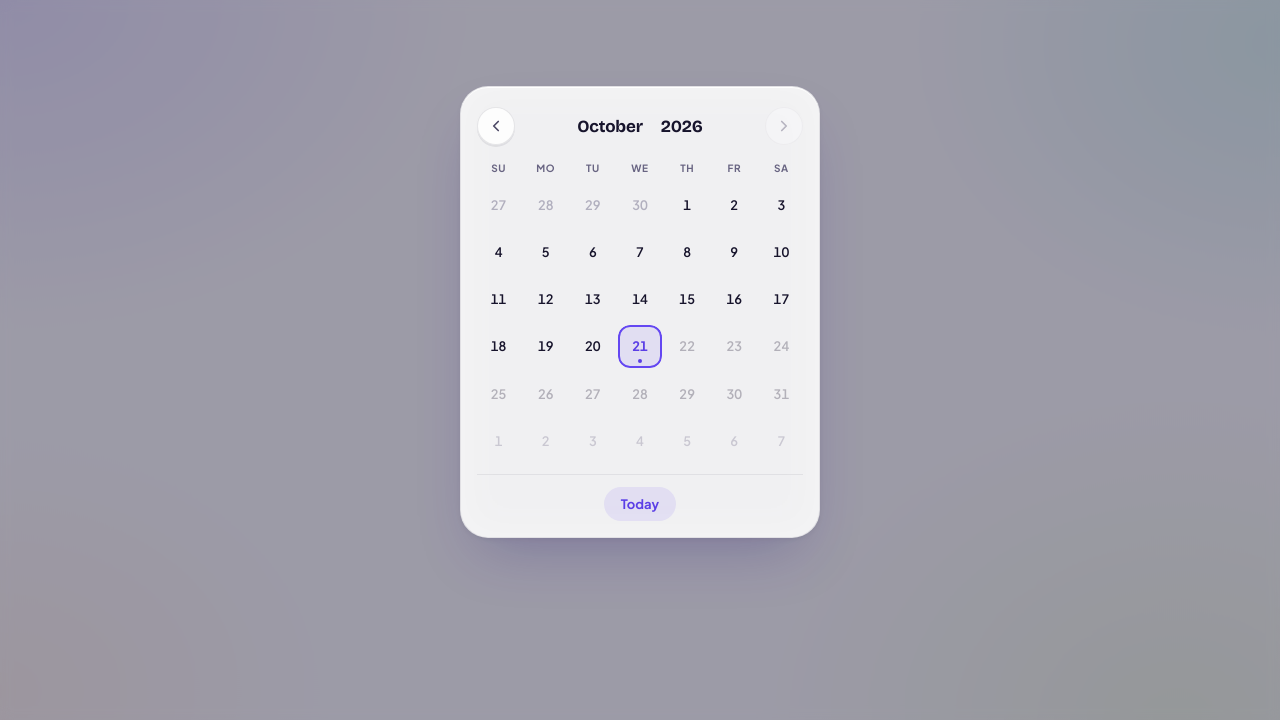
Test: CalendarPicker › pages through months but never past the max month
Expected: the button named "Next month" is disabled, top-left (765, 107), bottom-right (803, 145)
Click the button named "Previous month": (496, 126) top-left (477, 107), bottom-right (515, 145)
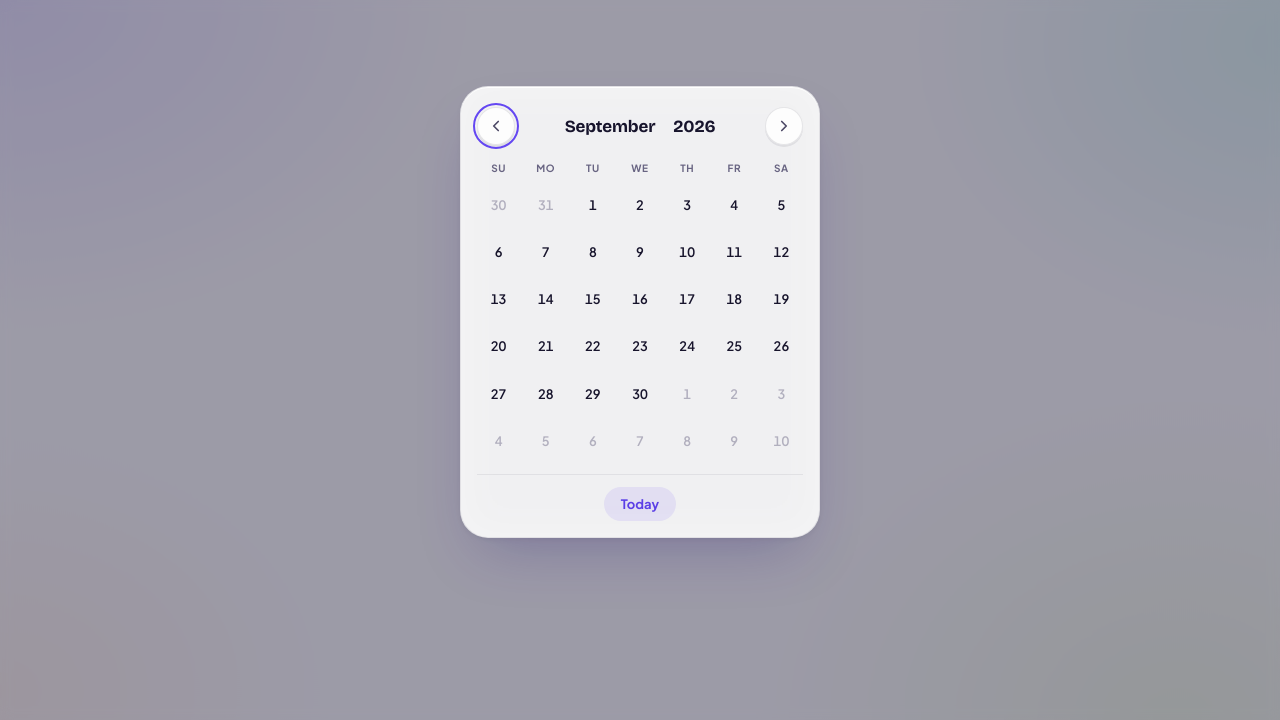
Expected: the button with aria-label "September, choose month" is shown, top-left (557, 112), bottom-right (663, 141)
Click the button named "Next month": (784, 126) top-left (765, 107), bottom-right (803, 145)
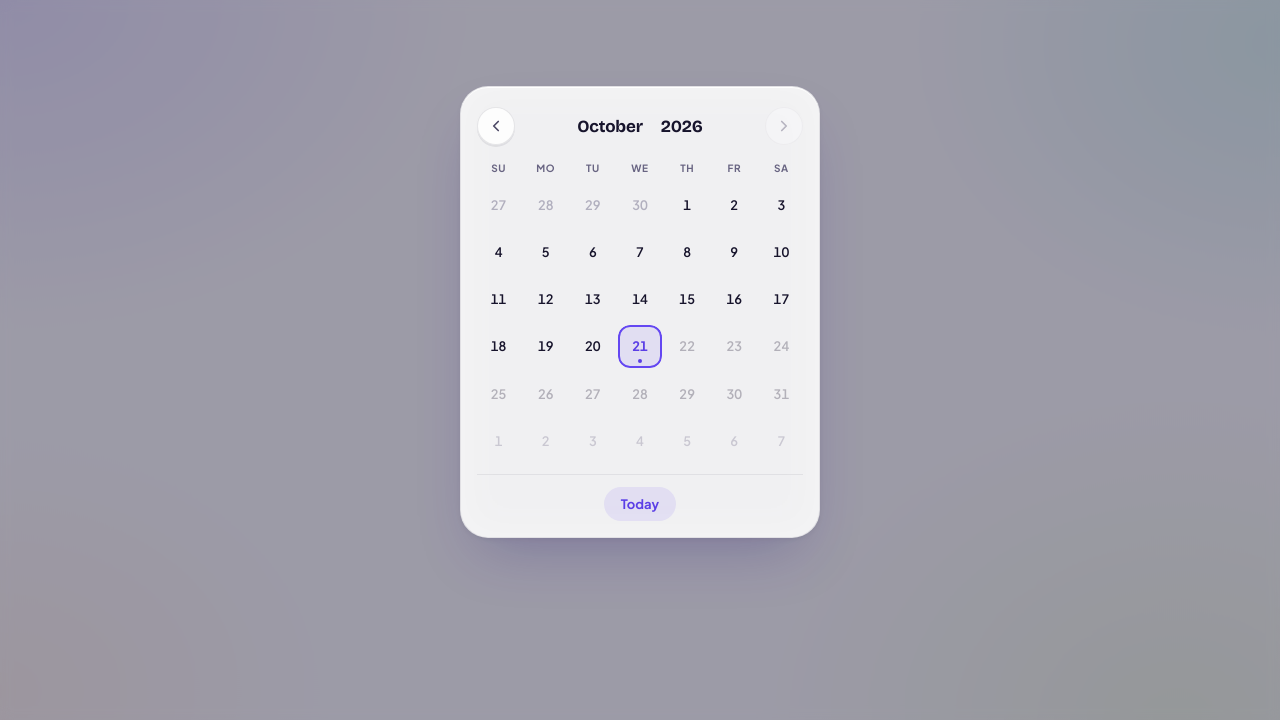
Expected: the button with aria-label "October, choose month" is shown, top-left (569, 112), bottom-right (651, 141)
